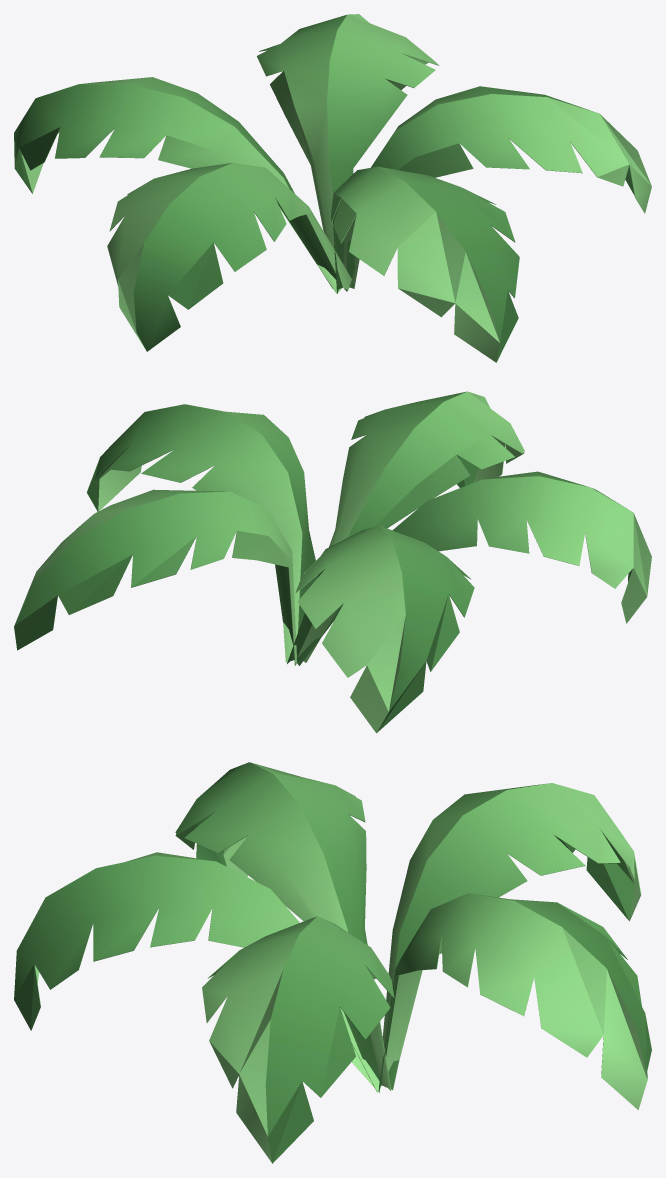
File: toon  tree branches.fbx
The picture shows the model from 3 angles, top to bottom: view 1: azimuth 30°, elevation 25°; view 2: azimuth 150°, elevation 25°; view 3: azimuth 270°, elevation 25°; orthographic projection. The views are drawn at different scales.
Visible parts, largest first — view 1: ParlmTree3_lambert3_0.001; view 2: ParlmTree3_lambert3_0.001; view 3: ParlmTree3_lambert3_0.001.
Part boxes in pixels (x1,y1,x2,y2): ParlmTree3_lambert3_0.001: (14, 14, 651, 362); ParlmTree3_lambert3_0.001: (14, 391, 651, 733); ParlmTree3_lambert3_0.001: (14, 762, 651, 1163).
Size of the model in its own units: 555 by 198 by 528.
Materials: 1 (1 with a texture image).
